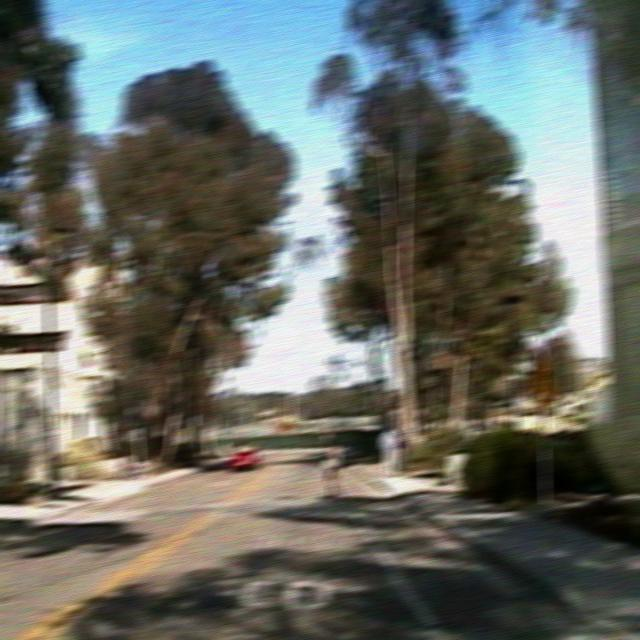pedestrianCrossing: (527, 355, 558, 412)
